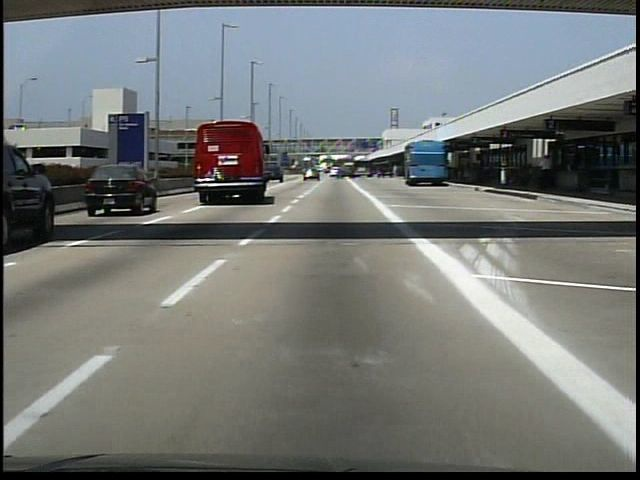person: (539, 155, 554, 192)
